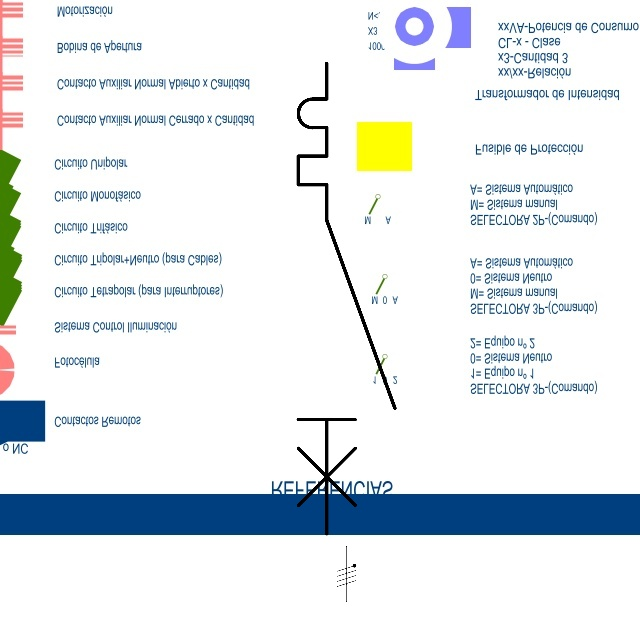interruptor_termomagnetico: (286, 51, 407, 545)
